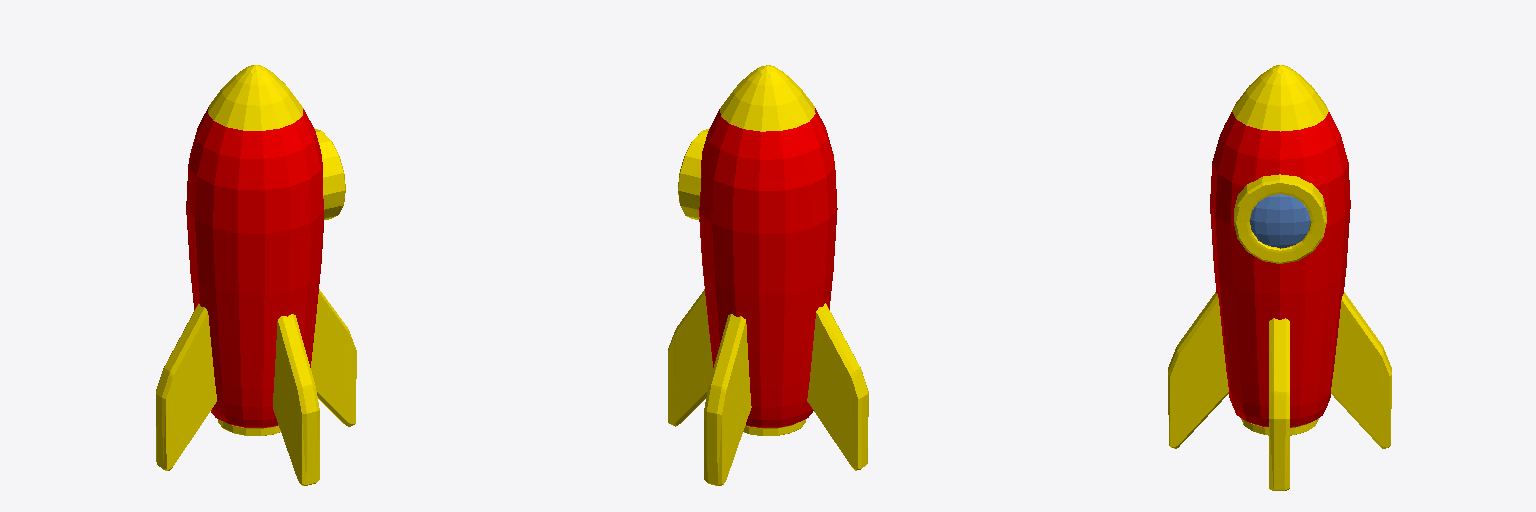
The model's file is Rocket.obj.
3 renders of one model, left to right at view 1: azimuth 30°, elevation 25°; view 2: azimuth 150°, elevation 25°; view 3: azimuth 270°, elevation 25°, orthographic.
Parts seen in each view (by area): view 1: Rocket_Cube.002; view 2: Rocket_Cube.002; view 3: Rocket_Cube.002.
Boxes of the visible parts, <box> form: Rocket_Cube.002: <box>156,65,356,485</box>; Rocket_Cube.002: <box>668,65,868,485</box>; Rocket_Cube.002: <box>1168,65,1391,490</box>.
Bounding box in the file's own units: 2.49 × 4.67 × 2.49.